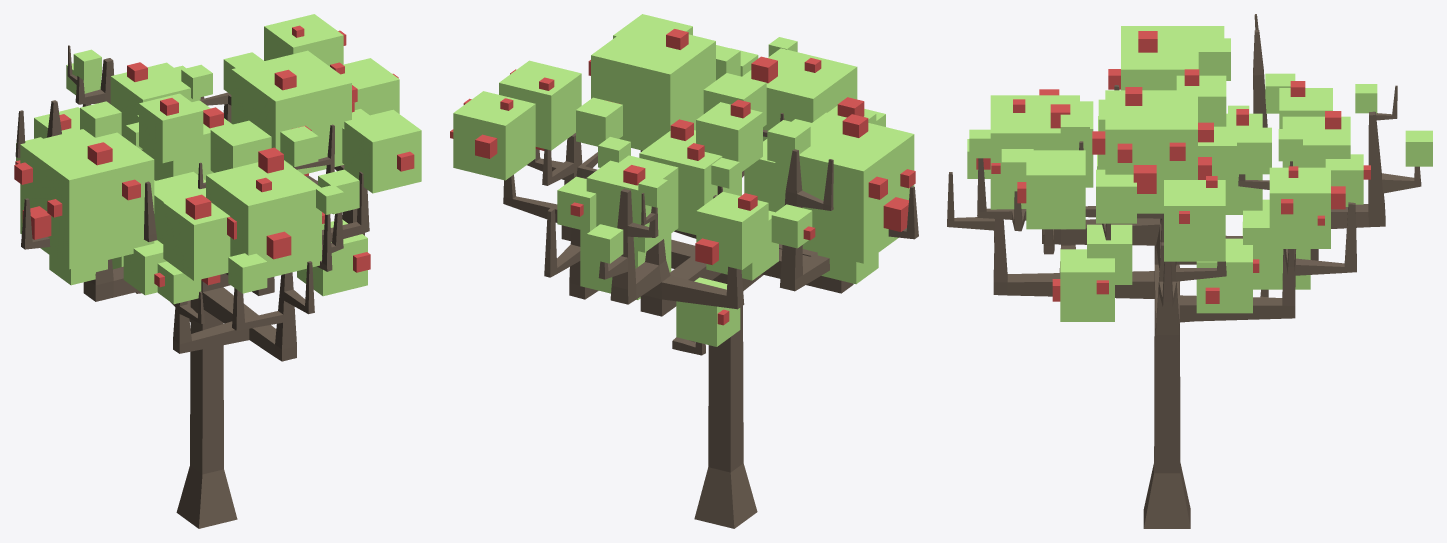
The model's file is healthy tree with blossoms 1.2.fbx.
3 views of the same model, side by side, from view 1: azimuth 30°, elevation 25°; view 2: azimuth 150°, elevation 25°; view 3: azimuth 270°, elevation 25° (orthographic). The views are drawn at different scales.
Parts seen in each view (by area): view 1: trunk; view 2: trunk; view 3: trunk.
Part boxes in pixels (<box>): trunk: <box>14,14,421,528</box>; trunk: <box>450,14,918,528</box>; trunk: <box>947,14,1432,528</box>.
Bounding box in the file's own units: 130 × 143 × 136.
